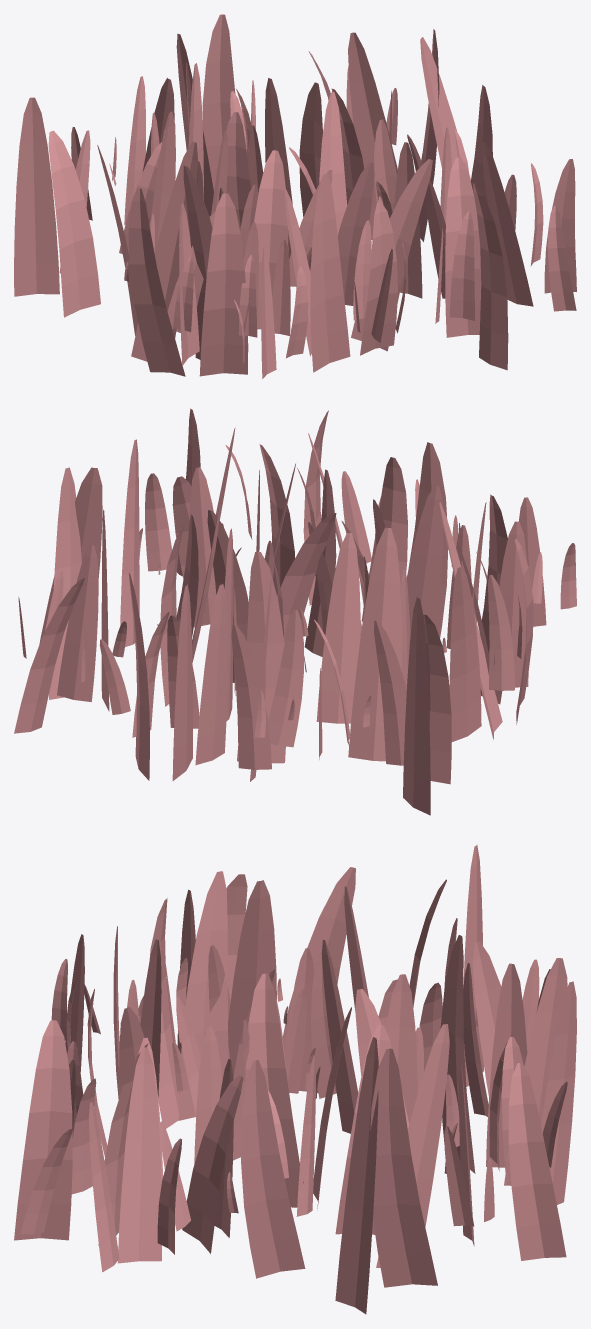
Rendered from grass2.fbx.
3 views of the same model, one above another, from view 1: azimuth 30°, elevation 25°; view 2: azimuth 150°, elevation 25°; view 3: azimuth 270°, elevation 25° (orthographic). The views are drawn at different scales.
Visible parts, largest first — view 1: Plane.101; view 2: Plane.101; view 3: Plane.101.
Part boxes in pixels (<box>): Plane.101: <box>14,14,576,378</box>; Plane.101: <box>14,408,576,815</box>; Plane.101: <box>14,844,576,1314</box>.
Size of the model in its own units: 85.47 by 41.05 by 83.85.
